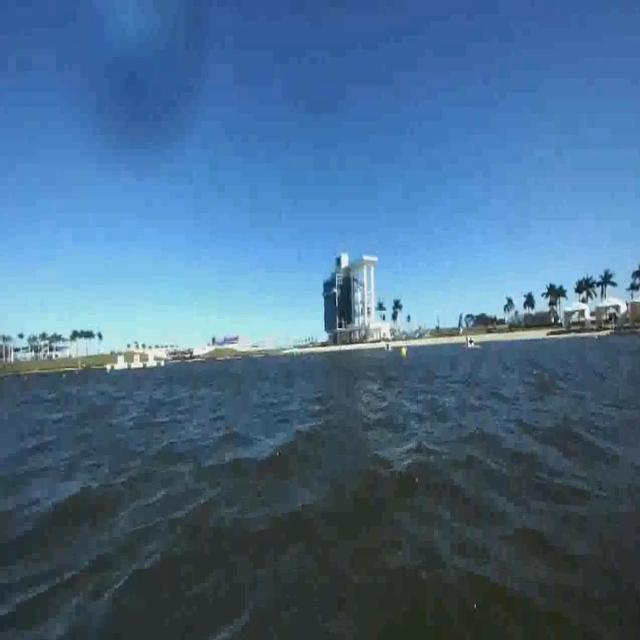yellow-buoy: (400, 346, 408, 360)
